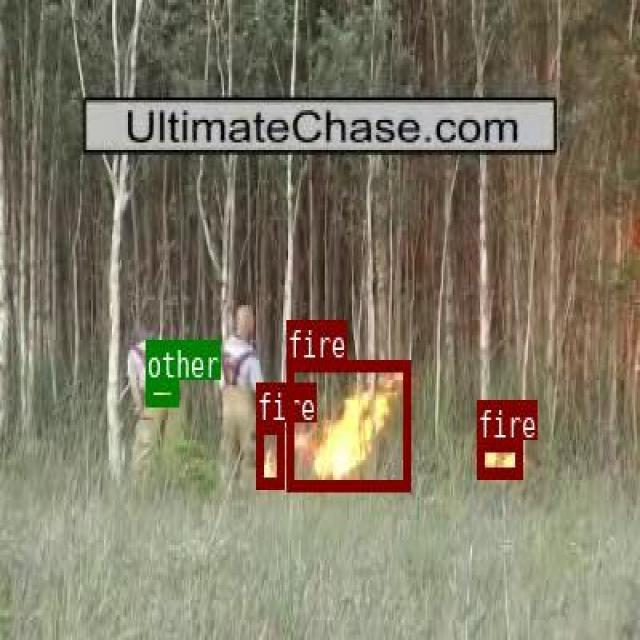fire: (285, 357, 409, 490), (255, 421, 282, 486), (476, 439, 521, 478)
